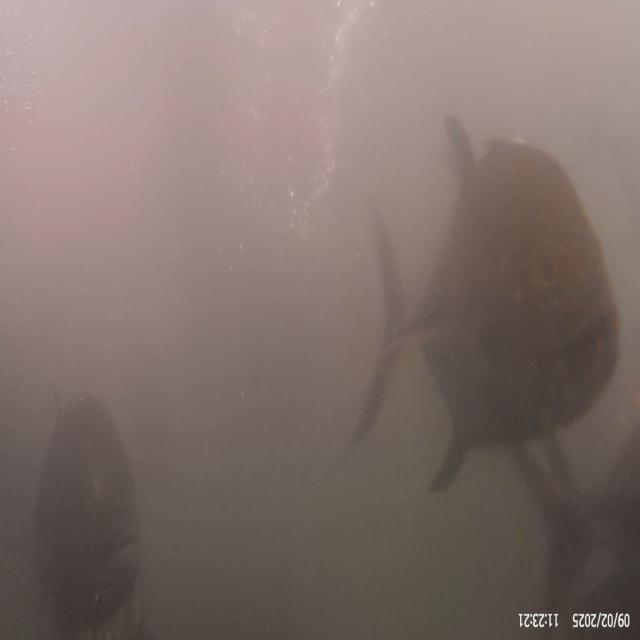ikan: (351, 111, 622, 497), (27, 388, 146, 638)
